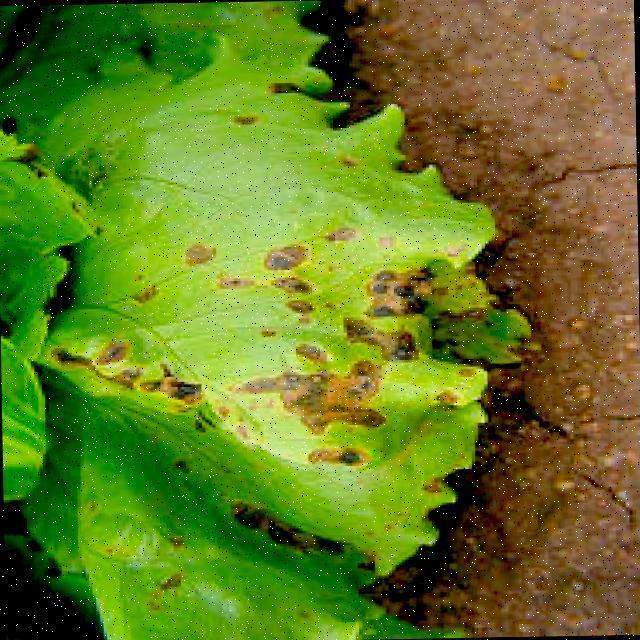Bacterial: (105, 203, 463, 380), (195, 337, 403, 575), (81, 325, 246, 477)
